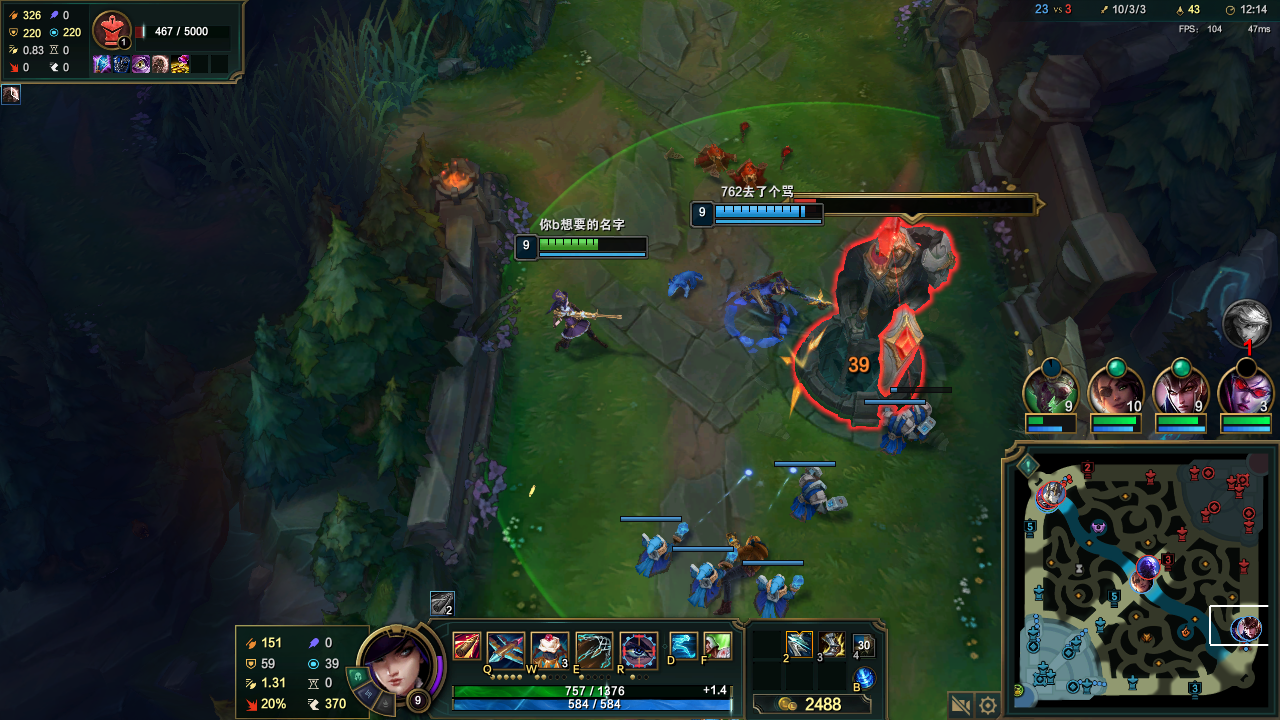DFFYT: (795, 194, 977, 447)
KF: (788, 635, 807, 647)
WFXB: (792, 467, 847, 520), (635, 530, 690, 577), (747, 573, 801, 607), (881, 407, 911, 447), (696, 562, 722, 600), (908, 404, 935, 432)
